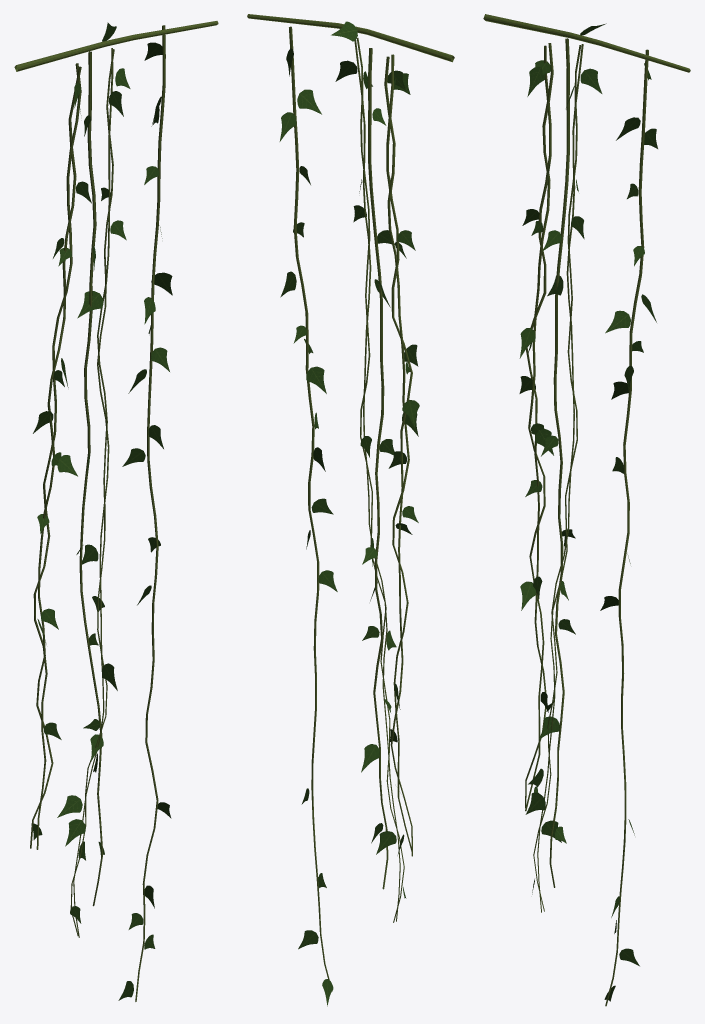
File: liana_hang_ivy_06_lod1.gltf
3 views of the same model, side by side, from view 1: azimuth 30°, elevation 25°; view 2: azimuth 150°, elevation 25°; view 3: azimuth 330°, elevation 25° (orthographic).
Visible parts, largest first — view 1: liana_hang_ivy_06; view 2: liana_hang_ivy_06; view 3: liana_hang_ivy_06.
Boxes of the visible parts, box(x1,y1,x2,y2) form: liana_hang_ivy_06: box(14, 21, 218, 1001); liana_hang_ivy_06: box(247, 14, 454, 1006); liana_hang_ivy_06: box(483, 14, 690, 1006).
Bounding box in the file's own units: 1.21 × 5.6 × 0.5322.
Materials: 2 (2 with a texture image).
